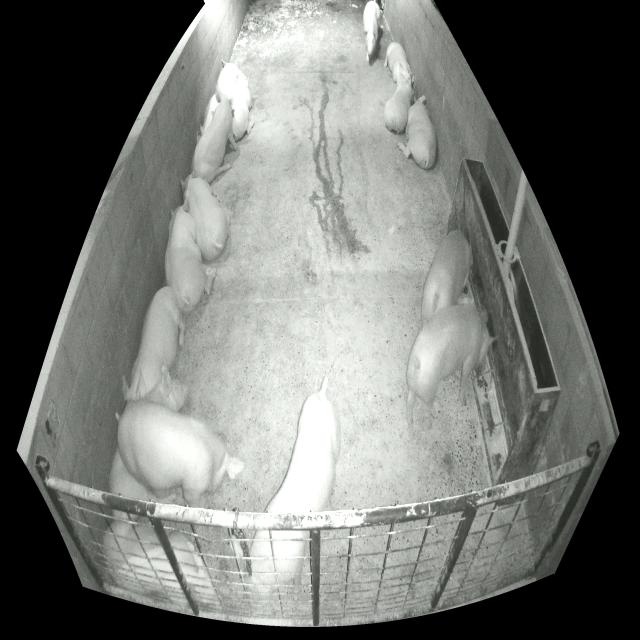pig: (250, 377, 341, 596), (116, 400, 244, 507), (109, 360, 190, 523), (103, 519, 215, 609), (407, 305, 494, 405), (123, 287, 186, 402), (421, 230, 473, 329), (165, 199, 206, 311), (190, 86, 236, 183), (180, 170, 228, 260), (217, 60, 254, 141), (397, 95, 436, 169), (384, 72, 414, 133), (384, 42, 411, 86), (363, 0, 380, 63), (200, 94, 218, 134)
